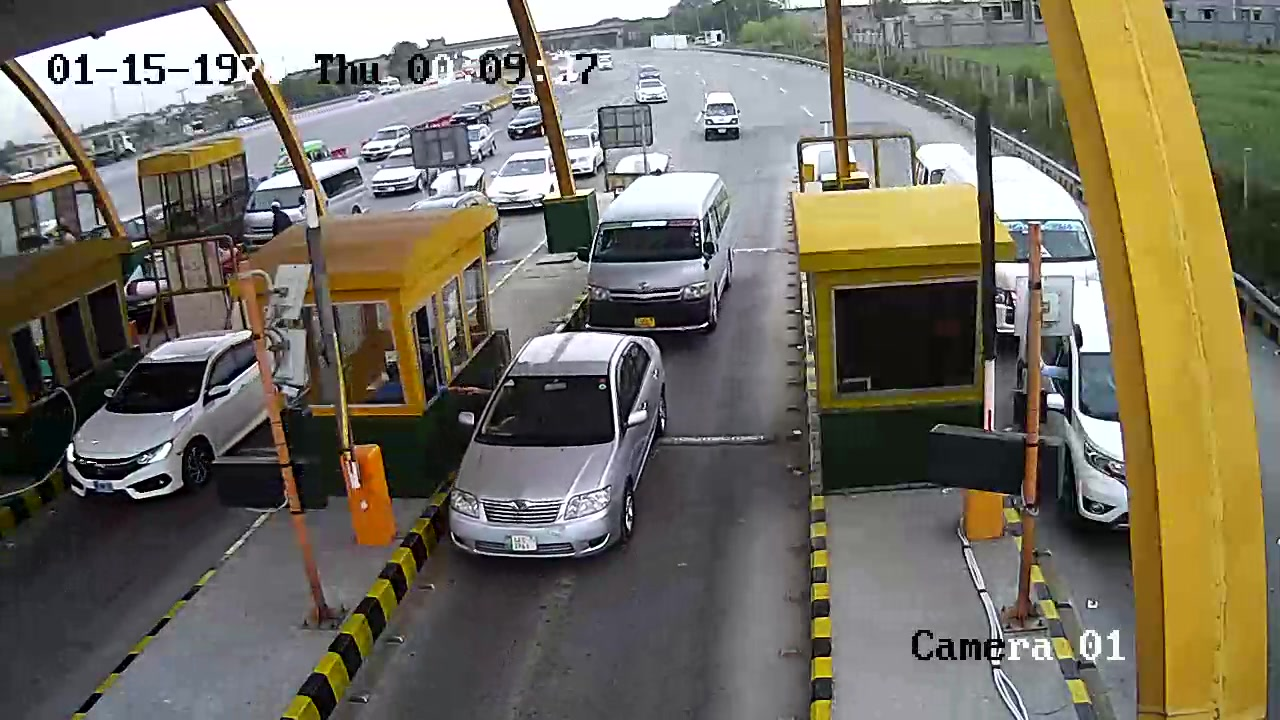F1: (441, 320, 675, 568)
F2: (573, 167, 737, 340)
